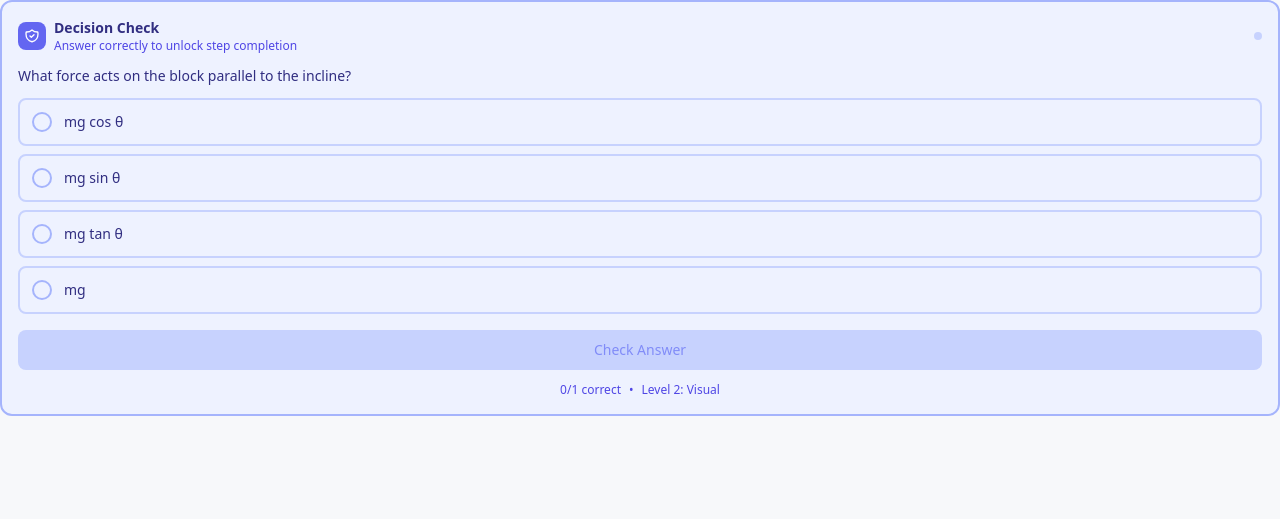
DecisionGate › Feedback Display › shows correct feedback when answer is correct
The width and height of the screenshot is (1280, 519).
What coordinates should you click on to do the following:
click the button "mg sin θ"
I would click on:
 (92, 178)
Its box is [18,154,1262,202].
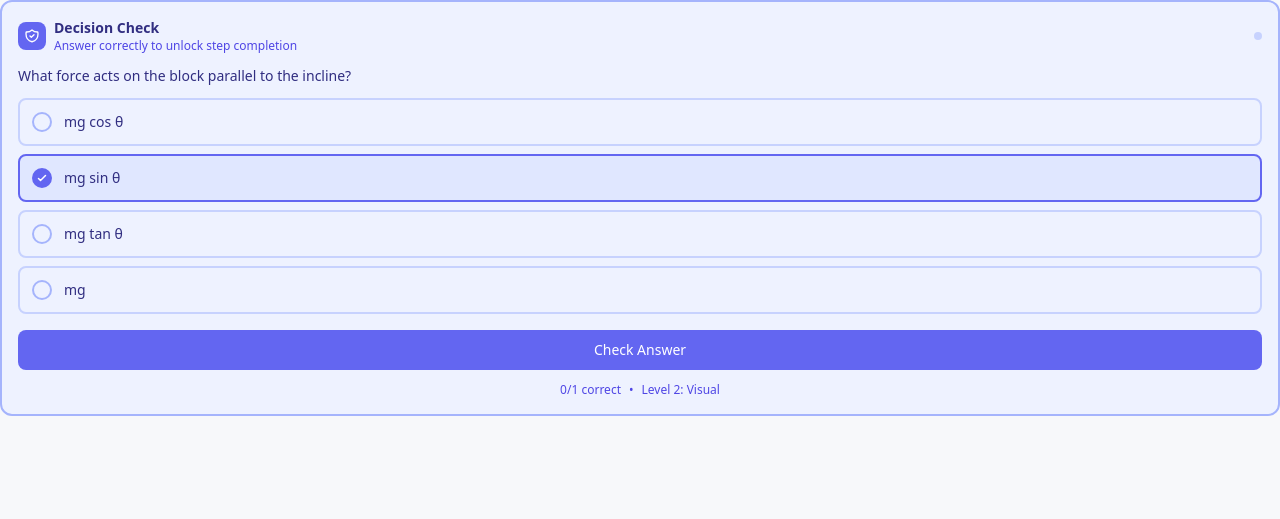
What coordinates should you click on to do the following:
click the button "Check Answer"
I would click on:
 (640, 350)
Its box is [18,330,1262,370].
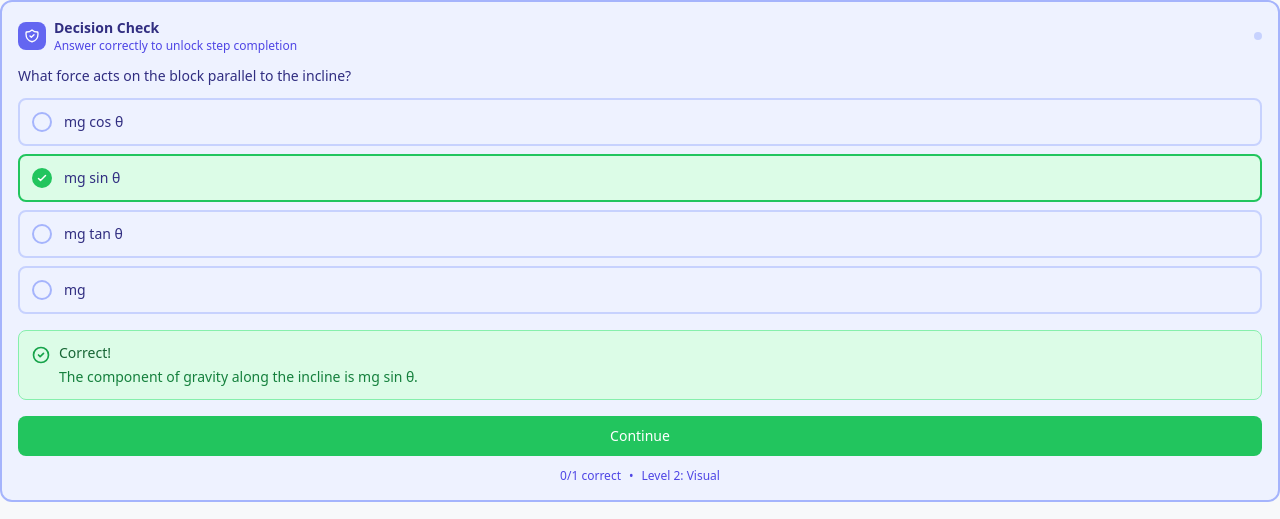
Expected: the text "Correct!" is shown, [59,343,111,362]
Expected: the text "The component of gravity along the incline is mg sin θ." is shown, [59,367,418,387]
